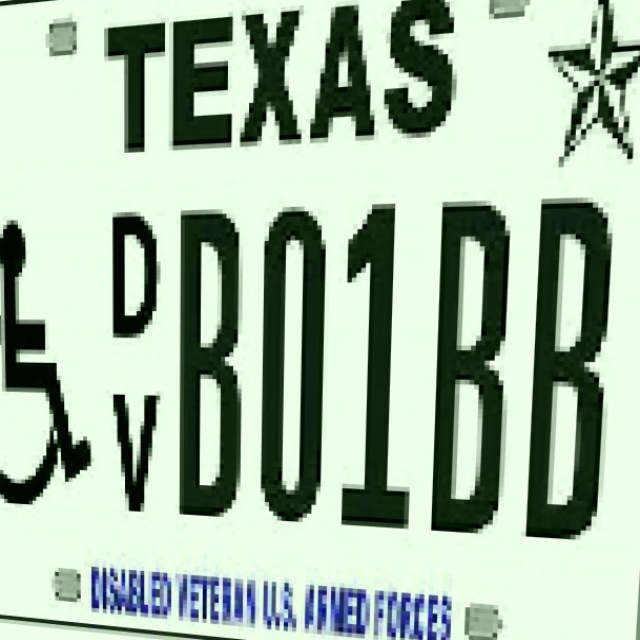ISA: (0, 210, 95, 517)
